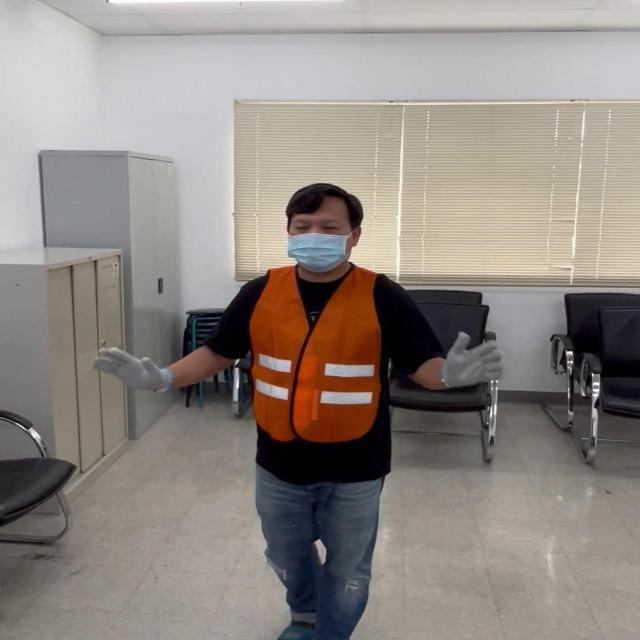gloved_hand: (99, 344, 177, 394), (436, 328, 499, 388)
